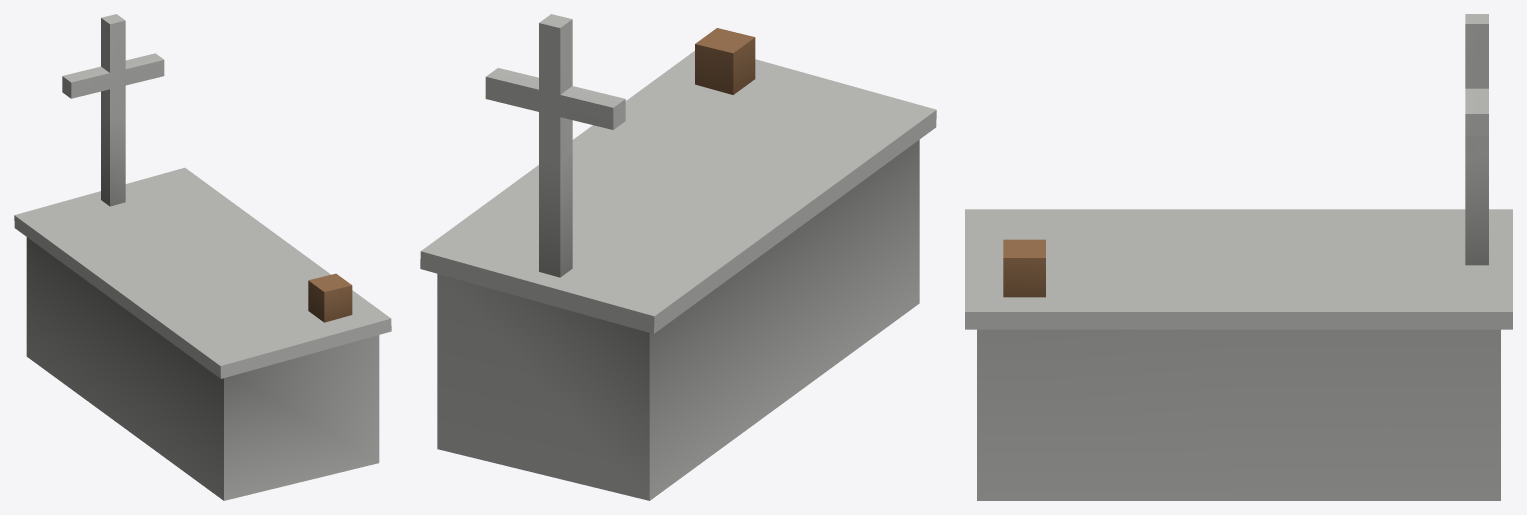
The model's file is tumulo_2.glb.
The picture shows the model from 3 angles, left to right: view 1: azimuth 30°, elevation 25°; view 2: azimuth 150°, elevation 25°; view 3: azimuth 270°, elevation 25°; orthographic projection. The views are drawn at different scales.
Parts seen in each view (by area): view 1: tumulo, tampa, cruz, vaso; view 2: tumulo, tampa, cruz, vaso; view 3: tumulo, tampa, cruz, vaso.
Boxes of the visible parts, x1=… form: tumulo: x1=26, y1=237, x2=379, y2=500; tampa: x1=14, y1=167, x2=391, y2=378; cruz: x1=62, y1=14, x2=164, y2=206; vaso: x1=308, y1=273, x2=352, y2=322; tumulo: x1=437, y1=140, x2=919, y2=500; tampa: x1=420, y1=51, x2=936, y2=333; cruz: x1=485, y1=14, x2=625, y2=277; vaso: x1=695, y1=28, x2=755, y2=94; tumulo: x1=977, y1=329, x2=1500, y2=500; tampa: x1=965, y1=209, x2=1512, y2=329; cruz: x1=1465, y1=14, x2=1488, y2=265; vaso: x1=1003, y1=239, x2=1045, y2=297.
Size of what is drawn, in the model's own units: 1.1 by 2 by 2.3.
